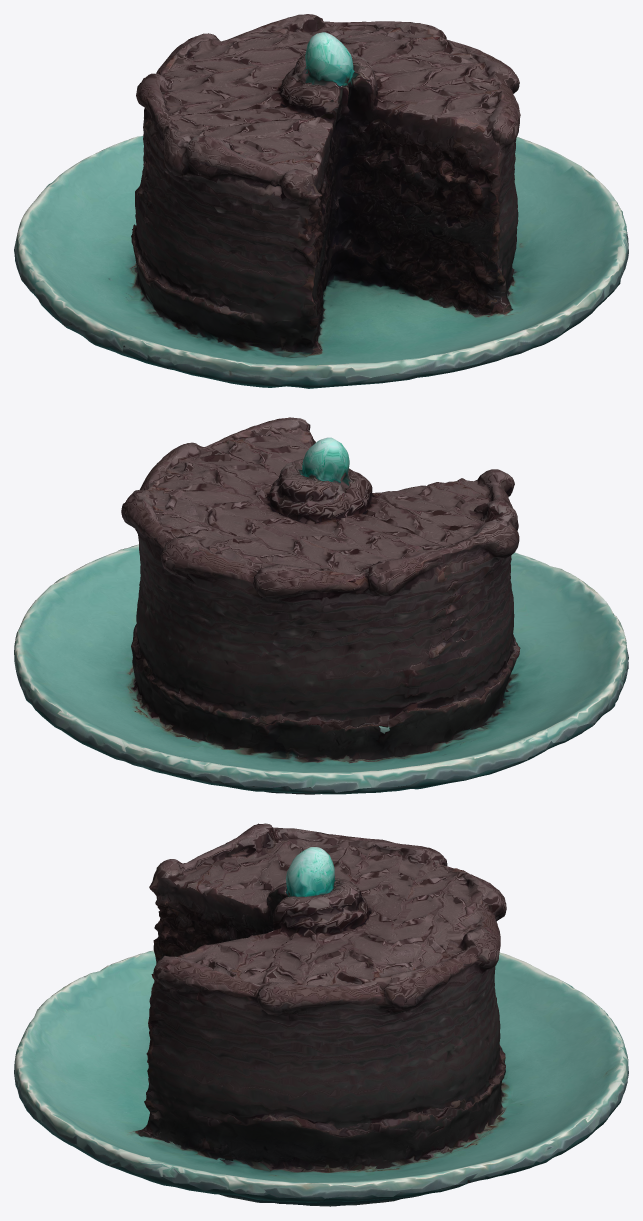
The model's file is NRS_Cake.obj.
3 renders of one model, top to bottom at view 1: azimuth 30°, elevation 25°; view 2: azimuth 150°, elevation 25°; view 3: azimuth 270°, elevation 25°, orthographic.
Visible parts, largest first — view 1: NRS_001_003; view 2: NRS_001_003; view 3: NRS_001_003.
Boxes of the visible parts, left/top/right/bottom form: NRS_001_003: left=14, top=14, right=628, bottom=388; NRS_001_003: left=14, top=417, right=628, bottom=794; NRS_001_003: left=14, top=823, right=628, bottom=1206.
Bounding box in the file's own units: 5000 × 2381 × 4980.
2 materials, 2 textured.
